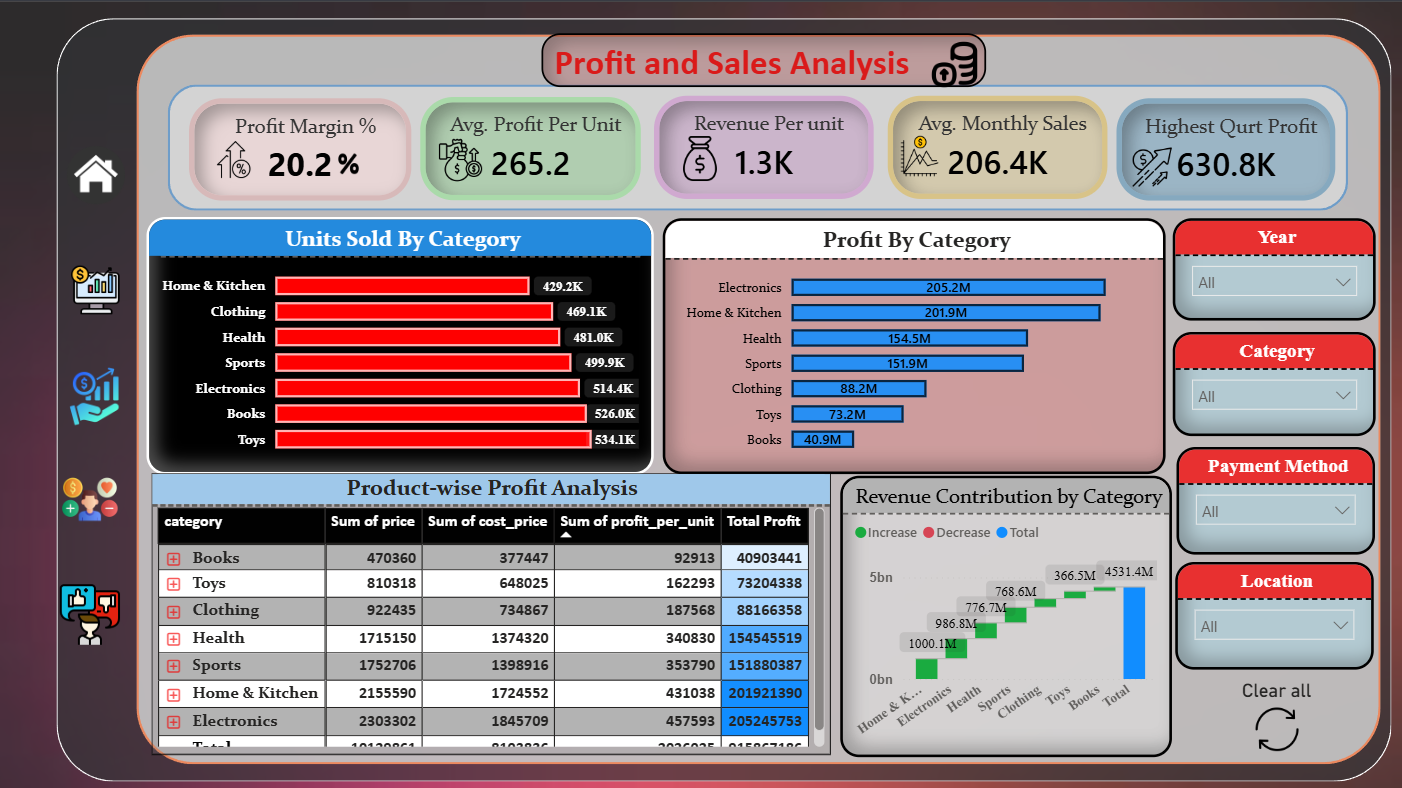

The page's visual inventory and layout, read from the dashboard file:
{"tool":"powerbi","page":{"name":"Profit & Sales Analysis","canvas":[1280,720],"ordinal":2},"visuals":[{"type":"shape","box":[56.5,14.5,1210.8,692.3],"z":0},{"type":"textbox","title":"Profit and Sales Analysis","box":[496.7,28,403,48.4],"z":0,"group":"g1"},{"type":"shape","box":[128.9,29,1128.2,661.9],"z":1000},{"type":"image","box":[841.9,29.5,57.8,54.5],"z":1000,"group":"g1"},{"type":"shape","box":[157.9,75.3,1070.3,114.4],"z":2000},{"type":"card","title":"Profit Margin %","fields":{"Values":["Ecommerce_Sales.ProfitMarginPct"]},"box":[176.7,86.9,201.3,92.7],"z":3000},{"type":"card","title":"Avg. Profit Per Unit","fields":{"Values":["Ecommerce_Sales.AvgProfitPerUnit"]},"box":[387,86.4,200.3,93.3],"z":4000},{"type":"card","title":"Revenue Per unit","fields":{"Values":["Ecommerce_Sales.RevenuePerUnit"]},"box":[598.3,85.1,199,93.3],"z":5000},{"type":"card","title":"Avg. Monthly Sales","fields":{"Values":["Ecommerce_Sales.Avg MonthlySales"]},"box":[811,85.1,199,93.3],"z":6000},{"type":"card","title":"Highest Qurt Profit","fields":{"Values":["Ecommerce_Sales.HighestQuarterUnit"]},"box":[1018.2,86.9,198.4,92.7],"z":7000},{"type":"image","box":[295,130.4,53.5,32.9],"z":8000},{"type":"image","box":[809.6,114.4,59.4,50.7],"z":9000},{"type":"image","box":[195.5,121.7,44.9,43.4],"z":10000},{"type":"image","box":[398.3,118.8,50.7,49.2],"z":11000},{"type":"image","box":[611.2,117.3,57.9,50.7],"z":12000},{"type":"image","box":[1025.4,121.7,49.2,56.5],"z":13000},{"type":"group","id":"g1","title":"Group 1","box":[496.7,28,403,56],"z":14000},{"type":"clusteredBarChart","title":"Units Sold By Category","fields":{"Category":["Ecommerce_Sales.category"],"Y":["Ecommerce_Sales.Total Units Sold"]},"box":[137.9,194.5,460.2,233.7],"z":15000},{"type":"barChart","title":"Profit By Category","fields":{"Category":["Ecommerce_Sales.category"],"Y":["Ecommerce_Sales.Total Profit"]},"box":[606.8,196,455.8,232.3],"z":16000},{"type":"pivotTable","title":"Product-wise Profit Analysis","fields":{"Rows":["Ecommerce_Sales.category","Ecommerce_Sales.product_name"],"Values":["Sum(Ecommerce_Sales.price)","Sum(Ecommerce_Sales.cost_price)","Sum(Ecommerce_Sales.profit_per_unit)","Ecommerce_Sales.Total Profit"]},"box":[142.6,427.7,616.4,254.9],"z":17000},{"type":"waterfallChart","title":"Revenue Contribution by Category","fields":{"Category":["Ecommerce_Sales.category"],"Y":["Ecommerce_Sales.Total Revenue"]},"box":[767.6,429.2,301,254.9],"z":18000},{"type":"slicer","title":"Category","fields":{"Values":["Ecommerce_Sales.category"]},"box":[1068.4,299,184.4,94.4],"z":19000},{"type":"slicer","title":"Payment Method","fields":{"Values":["Ecommerce_Sales.payment_method"]},"box":[1072.7,403.5,180,97.3],"z":20000},{"type":"slicer","title":"Year","fields":{"Values":["Ecommerce_Sales.year"]},"box":[1068.4,196,184.4,92.9],"z":21000},{"type":"image","box":[61,126.3,62.4,62.4],"z":22000},{"type":"image","box":[49.4,233.7,84.2,55.2],"z":23000},{"type":"image","box":[52.3,521.1,69.7,68.2],"z":24000},{"type":"image","box":[52.3,421,69.7,61],"z":25000},{"type":"image","box":[58.1,326.6,66.8,62.4],"z":26000},{"type":"image","title":"Clear all","box":[1126.4,614,74,71.1],"z":27000},{"type":"slicer","title":"Location","fields":{"Values":["Ecommerce_Sales.location"]},"box":[1071.7,507.7,179.8,97.4],"z":28000}]}

Visuals, with their boxes on the page's 1280x720 design canvas (x1, y1, x2, y2). These are canvas units, not pixel positions in the 1402x788 screenshot, which may show the page scaled, cropped or inside an application window:
shape: 56,14,1267,707
"Profit and Sales Analysis" textbox: 497,28,900,76
shape: 129,29,1257,691
image: 842,30,900,84
shape: 158,75,1228,190
"Profit Margin %" card: 177,87,378,180
"Avg. Profit Per Unit" card: 387,86,587,180
"Revenue Per unit" card: 598,85,797,178
"Avg. Monthly Sales" card: 811,85,1010,178
"Highest Qurt Profit" card: 1018,87,1217,180
image: 295,130,348,163
image: 810,114,869,165
image: 196,122,240,165
image: 398,119,449,168
image: 611,117,669,168
image: 1025,122,1075,178
"Group 1" group: 497,28,900,84
"Units Sold By Category" clusteredBarChart: 138,194,598,428
"Profit By Category" barChart: 607,196,1063,428
"Product-wise Profit Analysis" pivotTable: 143,428,759,683
"Revenue Contribution by Category" waterfallChart: 768,429,1069,684
"Category" slicer: 1068,299,1253,393
"Payment Method" slicer: 1073,404,1253,501
"Year" slicer: 1068,196,1253,289
image: 61,126,123,189
image: 49,234,134,289
image: 52,521,122,589
image: 52,421,122,482
image: 58,327,125,389
"Clear all" image: 1126,614,1200,685
"Location" slicer: 1072,508,1252,605
